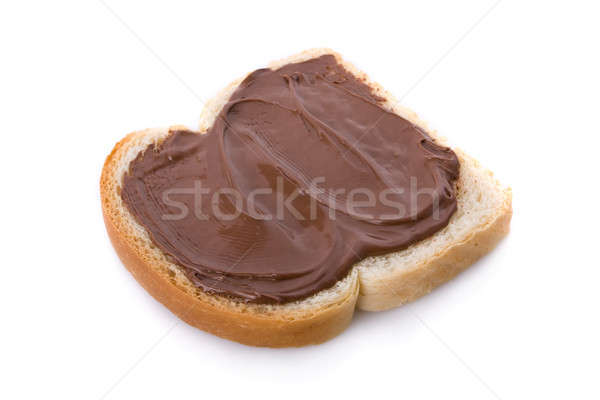slice of bread: (96, 73, 535, 342)
